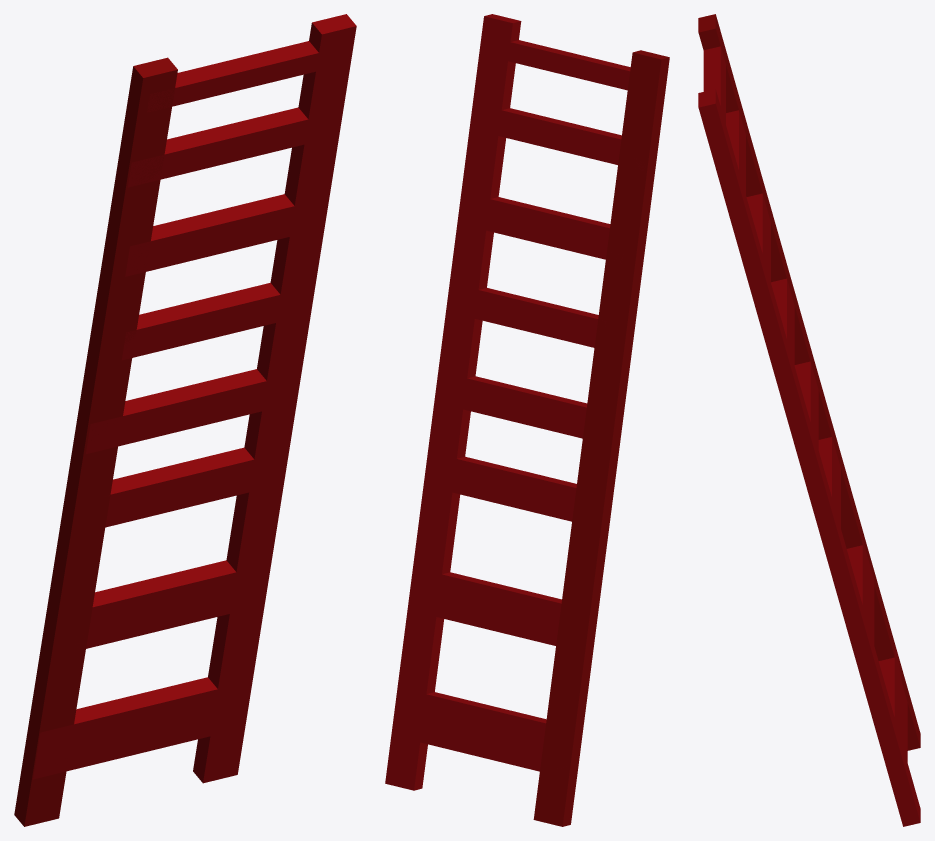
The model's file is ESCALERA_GARAGE_.fbx.
3 renders of one model, left to right at view 1: azimuth 30°, elevation 25°; view 2: azimuth 150°, elevation 25°; view 3: azimuth 270°, elevation 25°, orthographic. The views are drawn at different scales.
Parts seen in each view (by area): view 1: Cube.001; view 2: Cube.001; view 3: Cube.001.
Boxes of the visible parts, x1=… form: Cube.001: x1=14, y1=14, x2=356, y2=826; Cube.001: x1=385, y1=14, x2=669, y2=826; Cube.001: x1=698, y1=14, x2=920, y2=826.
Bounding box in the file's own units: 192 × 721 × 201.
